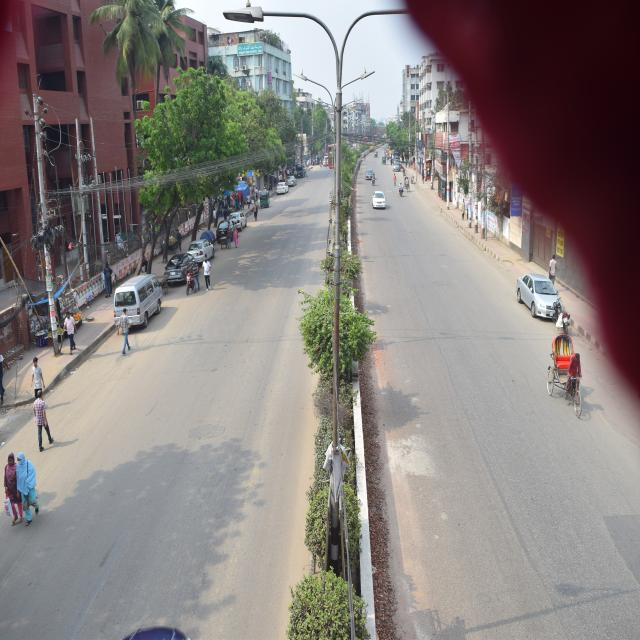car: (510, 256, 562, 326), (164, 251, 201, 291), (190, 239, 217, 265), (228, 208, 254, 231), (215, 218, 232, 246), (371, 186, 386, 212), (273, 182, 294, 194), (362, 165, 373, 178)
microbus: (106, 272, 164, 334)
motorbike: (550, 295, 572, 334), (396, 182, 406, 197)
